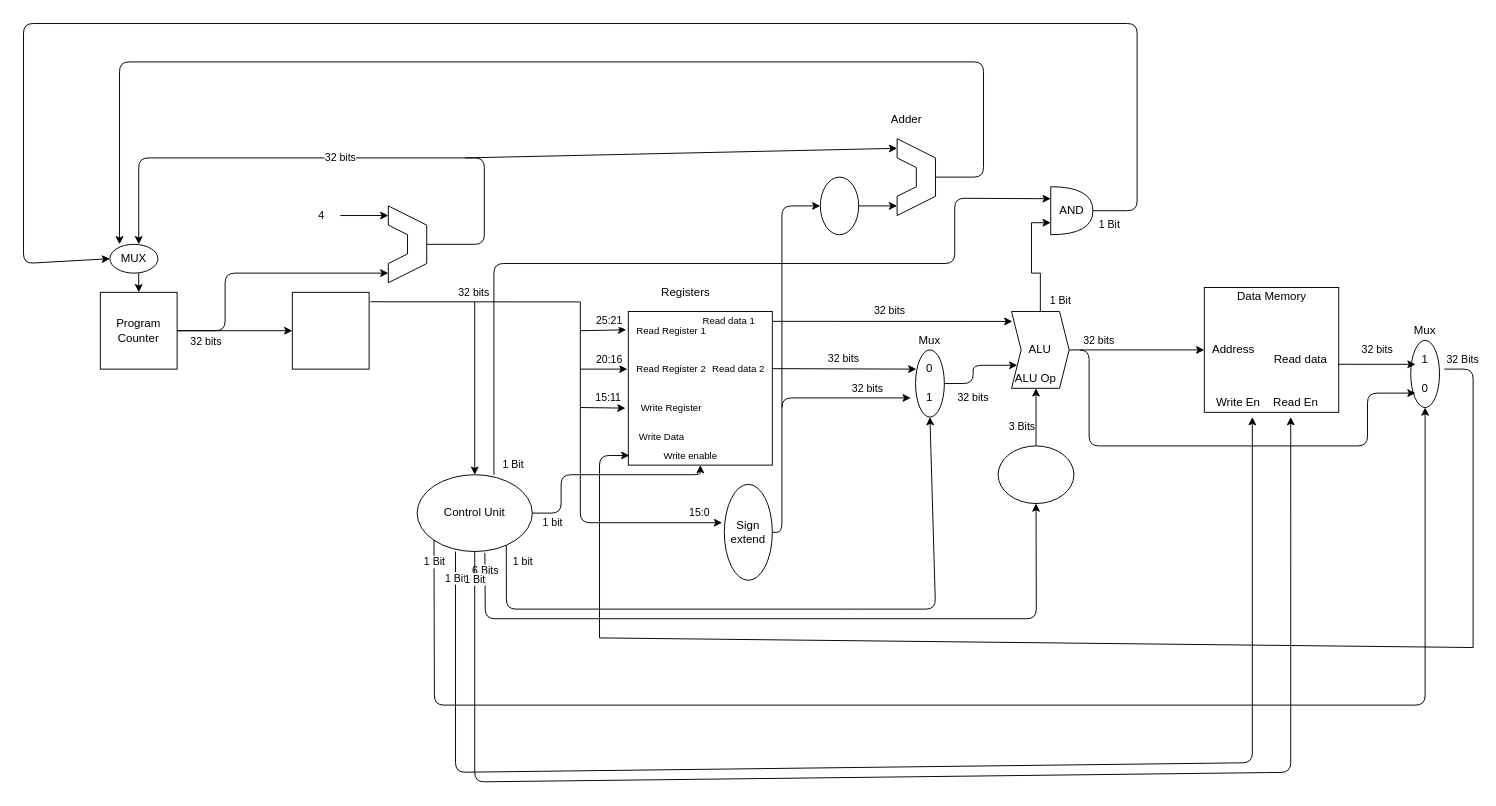
The diagram is 1496 pixels wide and 806 high, and some of its shapes have lost their labels. The shapes that lost their labels are listed below. From the top down, each one's centre as x and y in pixels, then its label:
At point 839,205: "Shift Left".
At point 330,330: "Instruction Register".
At point 1035,474: "ALU Control".
